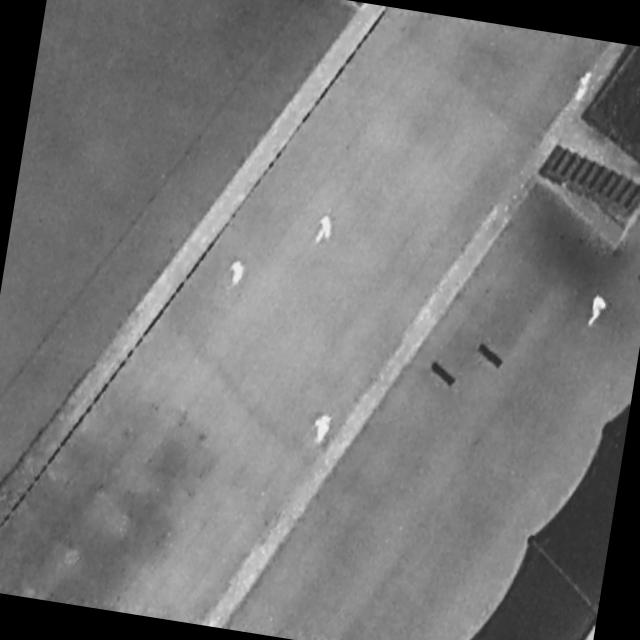person: (308, 410, 336, 450), (589, 294, 609, 331), (316, 215, 335, 248), (228, 260, 247, 290)
